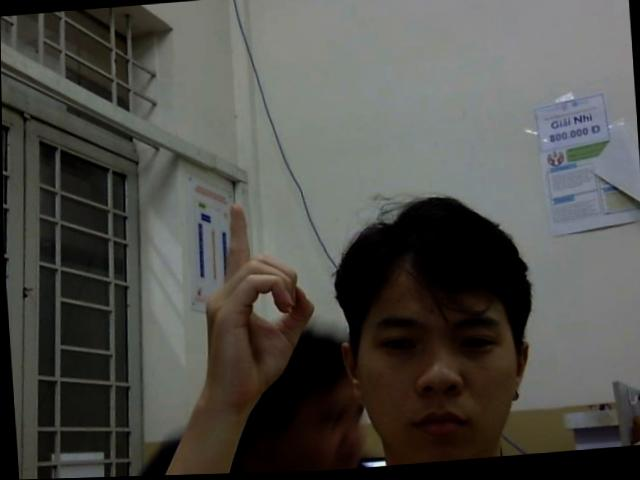D: (196, 201, 320, 410)
